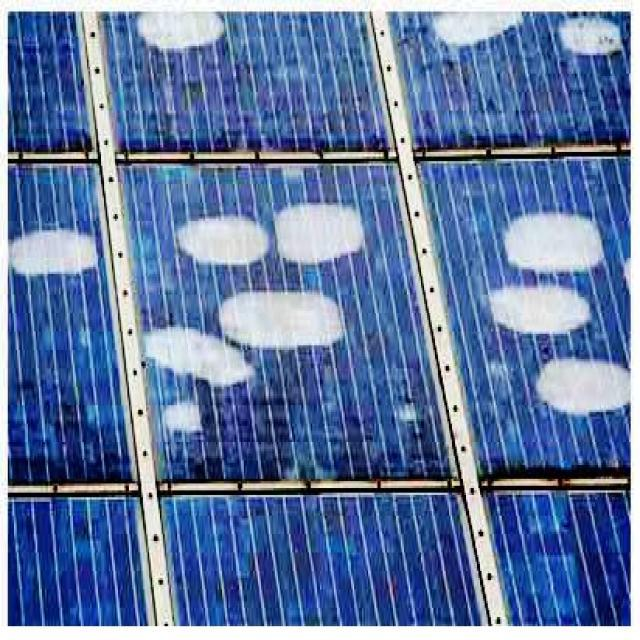faulty: (11, 15, 626, 625)
